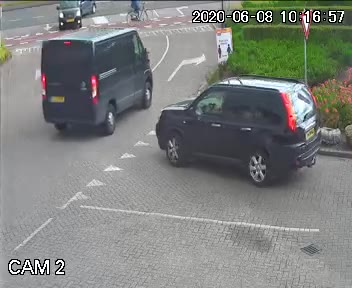car: (152, 66, 330, 196), (40, 21, 168, 143), (53, 0, 97, 31)
